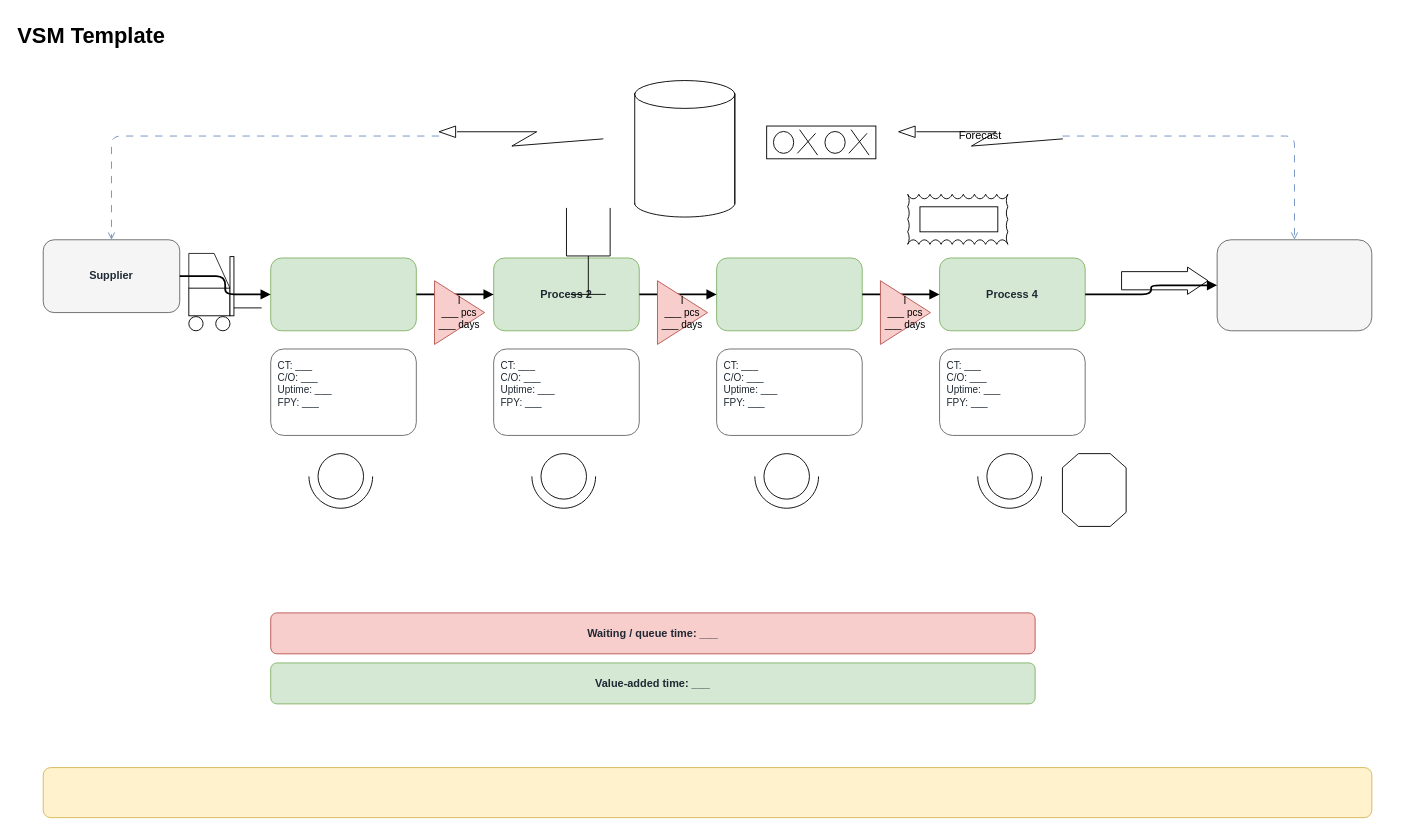
This 1414x834 diagram has some shape labels left out. Here are the shapes that lost their labels. From the top down, the centre of each, then its label:
(520,135): Schedule
(684,148): MRP / ERP Production Control
(343,294): Process 1
(789,294): Process 3
(1294,285): Customer Demand: ___ / day Takt: ___
(707,792): Lead time: ___ Process time: ___ VA ratio: ___%
